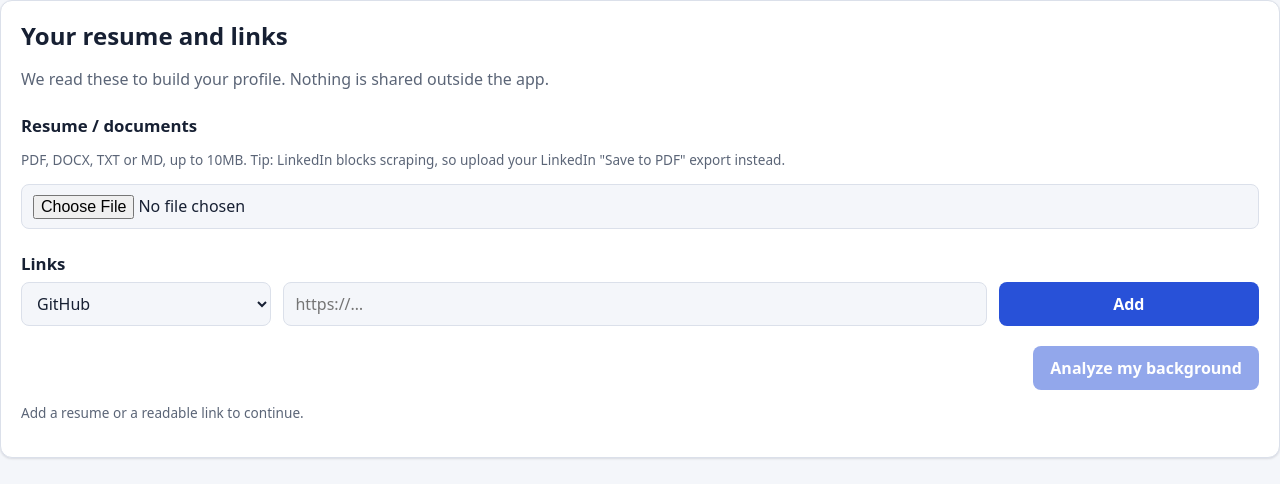
Scenario: sources step › adds a link as processing, then shows it read
In the field with placeholder "https://…": (635, 304) x1=283 y1=282 x2=987 y2=326, type "https://github.com/sam"
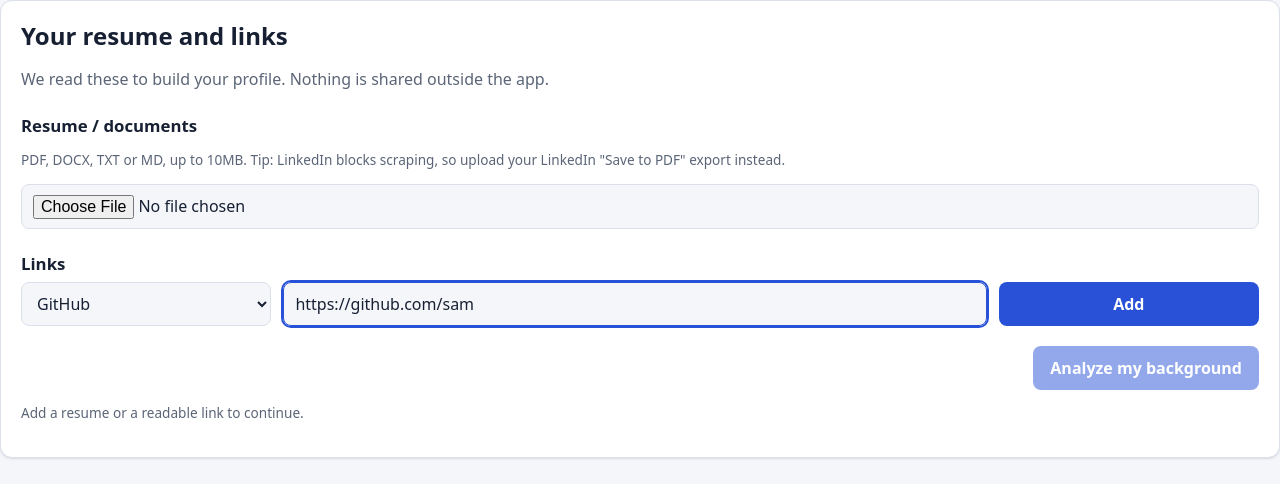
Click the button "Add": (1129, 304) x1=999 y1=282 x2=1259 y2=326
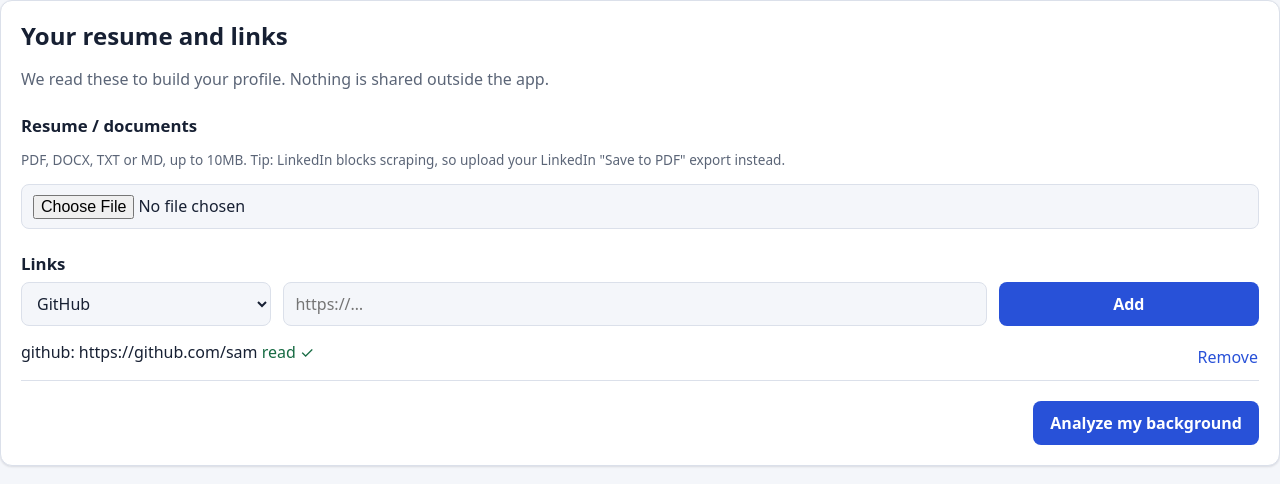
Expected: the text "read ✓" is shown, x1=262 y1=340 x2=314 y2=362
Expected: the button "Analyze my background" is enabled, x1=1033 y1=400 x2=1259 y2=444
